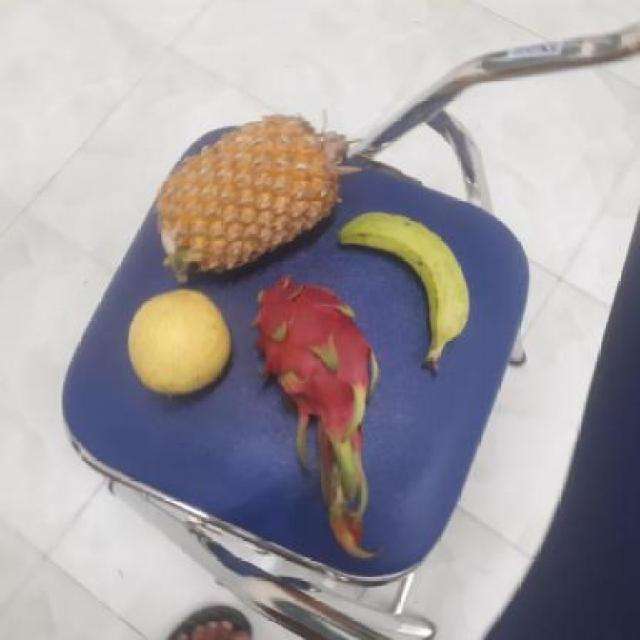banana: (330, 211, 470, 357)
dragon fruit: (241, 277, 376, 428)
guava: (124, 290, 231, 395)
pineapple: (155, 114, 342, 281)
